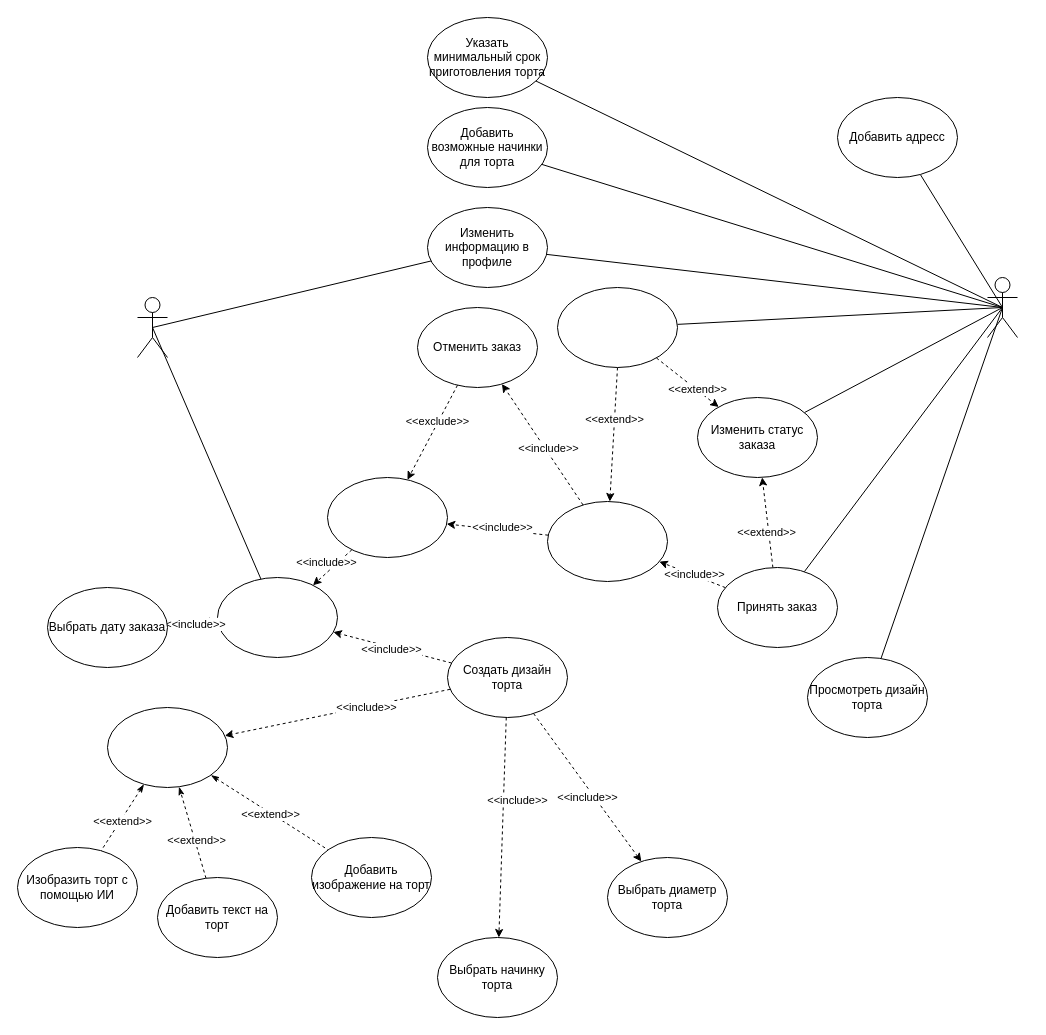
Some shapes in this 1046 by 1035 pixel diagram are drawn without their labels. Here are the shapes that lost their labels. From the top down, the centre of each, then its label:
[152,327]: Покупатель
[617,327]: Отклонить заказ
[1002,307]: Кондитер
[387,517]: Оплатить заказ
[607,541]: Получить подтверждение заказа
[277,617]: Заказать торт
[167,747]: Изобразить вид торта
